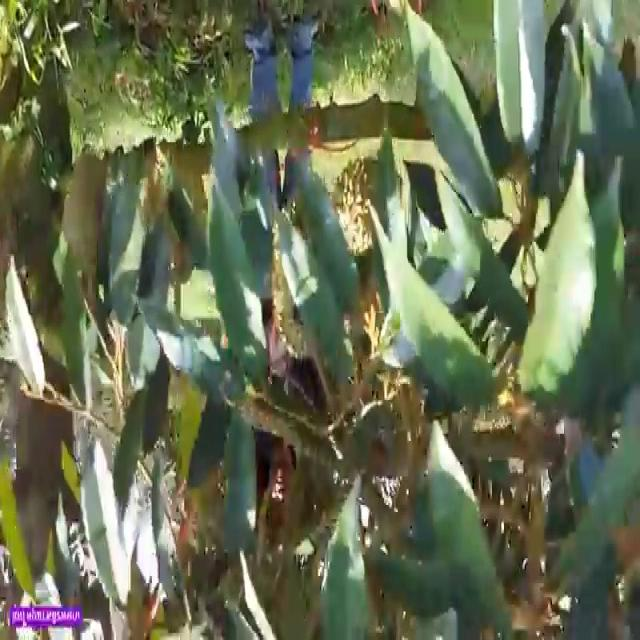durian: (61, 145, 114, 289)
